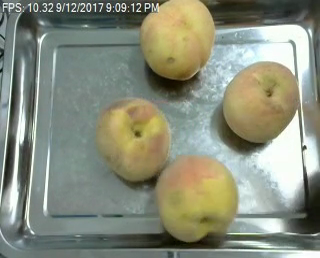Peach: (156, 154, 238, 245), (94, 97, 171, 183), (222, 61, 300, 143), (139, 0, 215, 80)
